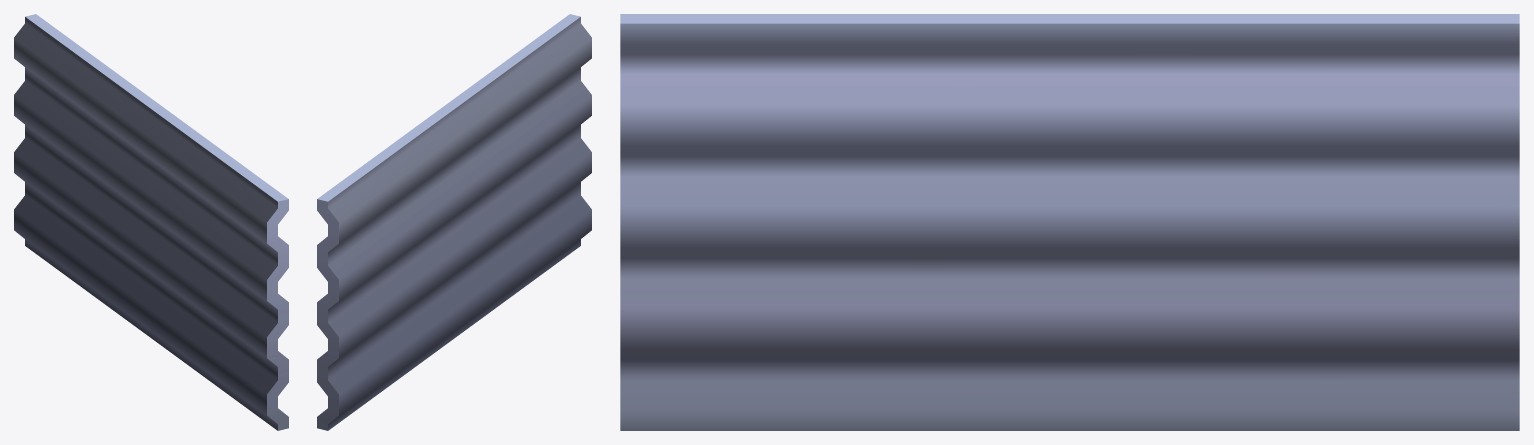
File: plating-wide.optimized.glb
3 renders of one model, left to right at view 1: azimuth 30°, elevation 25°; view 2: azimuth 150°, elevation 25°; view 3: azimuth 270°, elevation 25°, orthographic. The views are drawn at different scales.
Visible parts, largest first — view 1: plating-wide; view 2: plating-wide; view 3: plating-wide.
Boxes of the visible parts, <box> form: plating-wide: <box>14,14,288,430</box>; plating-wide: <box>317,14,591,430</box>; plating-wide: <box>620,14,1519,430</box>.
Size of the model in its own units: 0.1001 by 1 by 2.
1 material, 1 textured.
